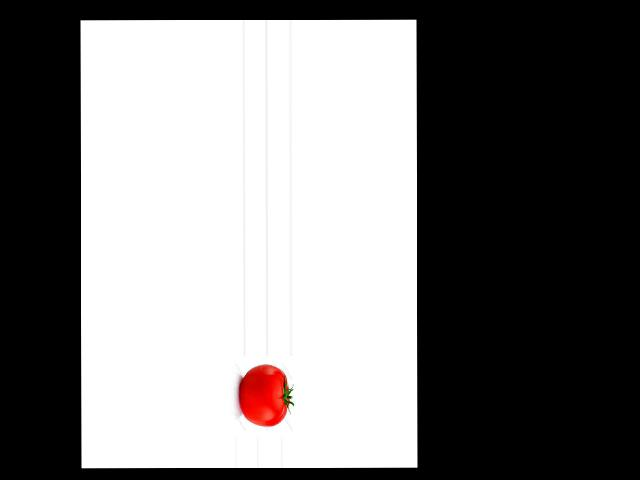tomato: (240, 364, 289, 427)
